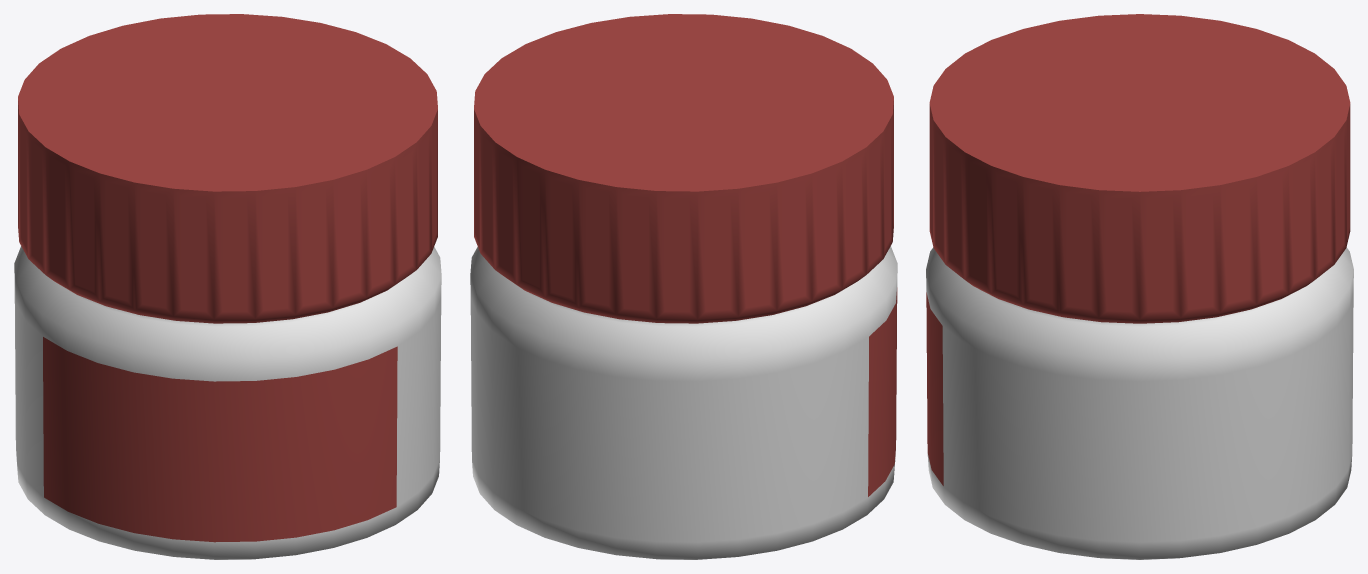
File: pilljar.glb
3 views of the same model, side by side, from view 1: azimuth 30°, elevation 25°; view 2: azimuth 150°, elevation 25°; view 3: azimuth 270°, elevation 25° (orthographic).
Parts seen in each view (by area): view 1: prop_pilljar; view 2: prop_pilljar; view 3: prop_pilljar.
Part boxes in pixels (<box>): prop_pilljar: <box>14,14,441,559</box>; prop_pilljar: <box>470,14,897,559</box>; prop_pilljar: <box>926,14,1353,559</box>.
Size of the model in its own units: 0.1711 by 0.1683 by 0.1711.
